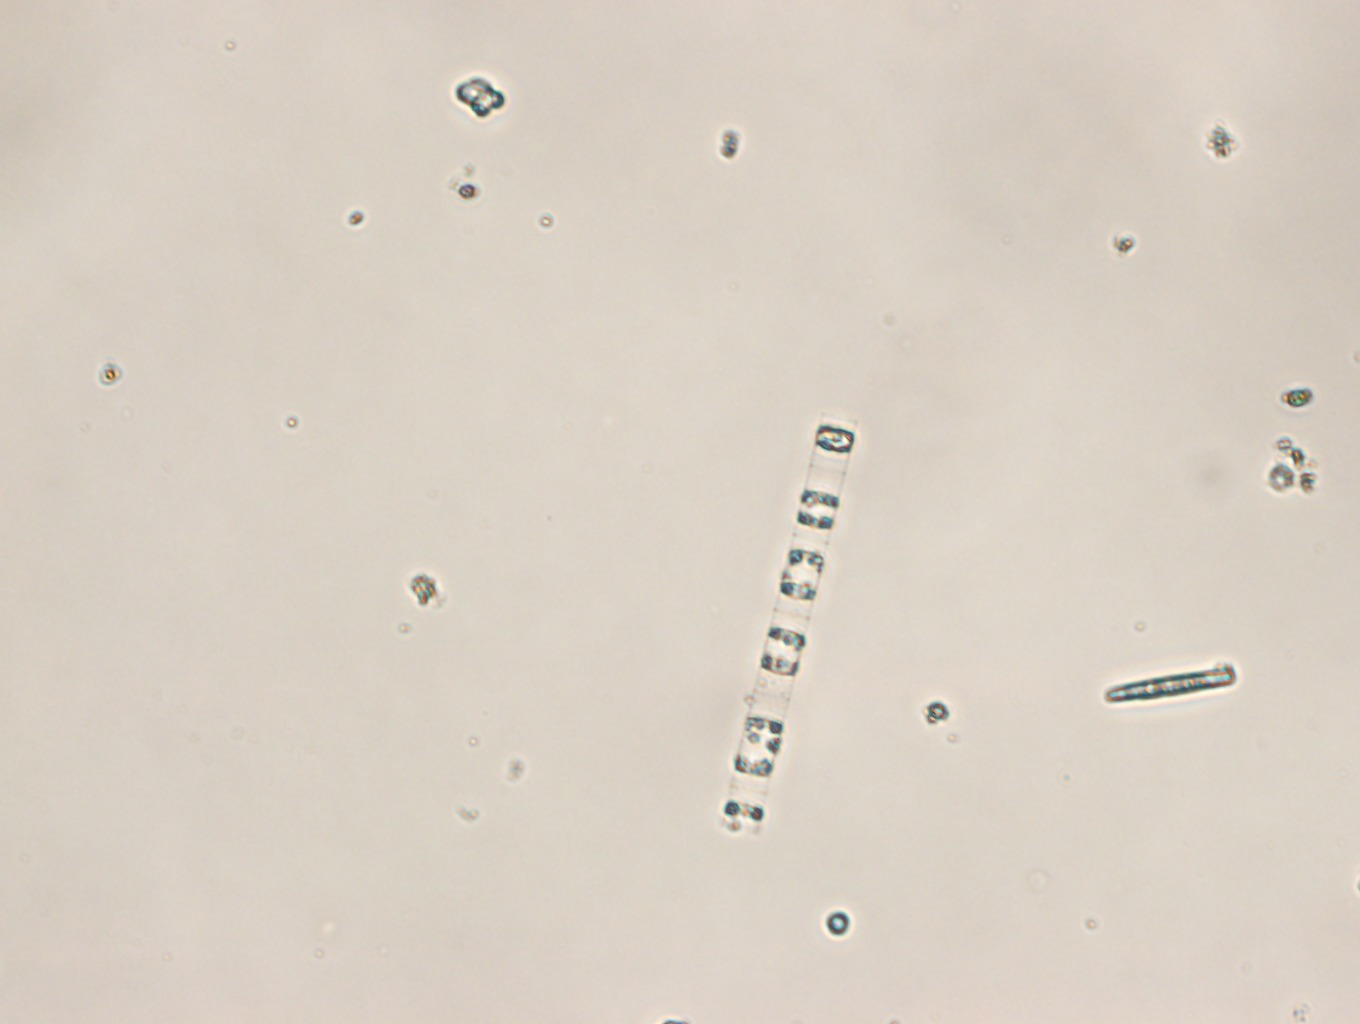skeletonema: (722, 412, 856, 837)
